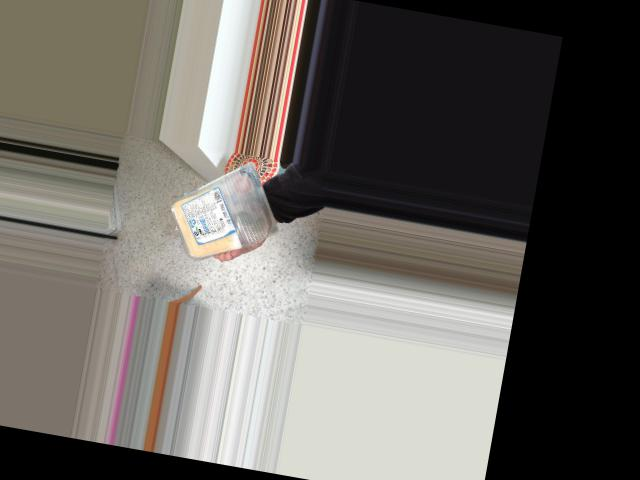cheese: (160, 158, 273, 256)
